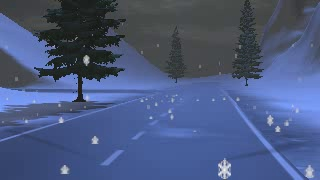Lane: (0, 82, 302, 179)
